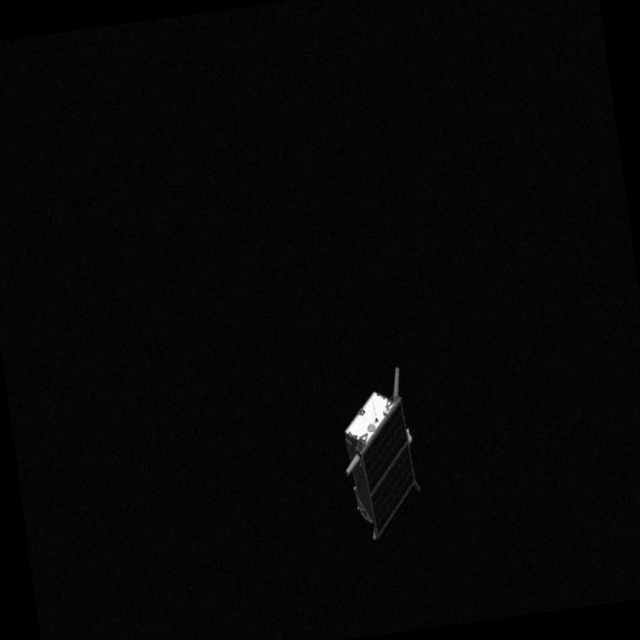satellite: (326, 347, 441, 550)
